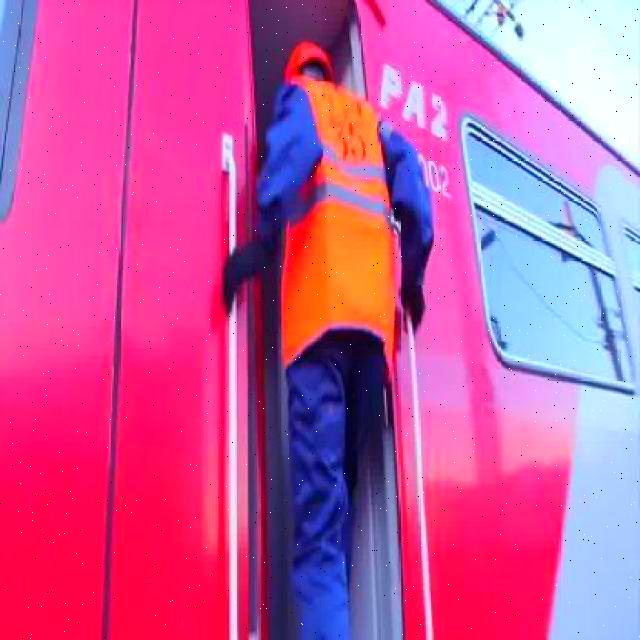Gloves: (222, 233, 276, 307), (401, 280, 428, 334)
Mask: (280, 70, 397, 384)
